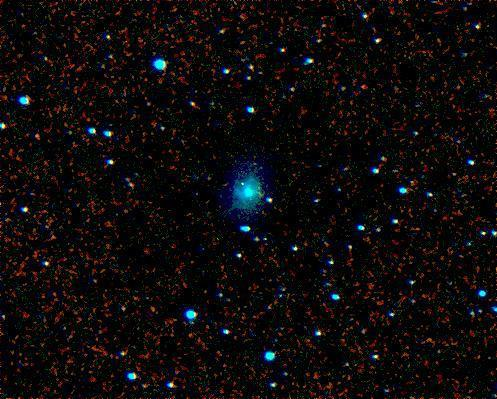star: (228, 169, 258, 199)
